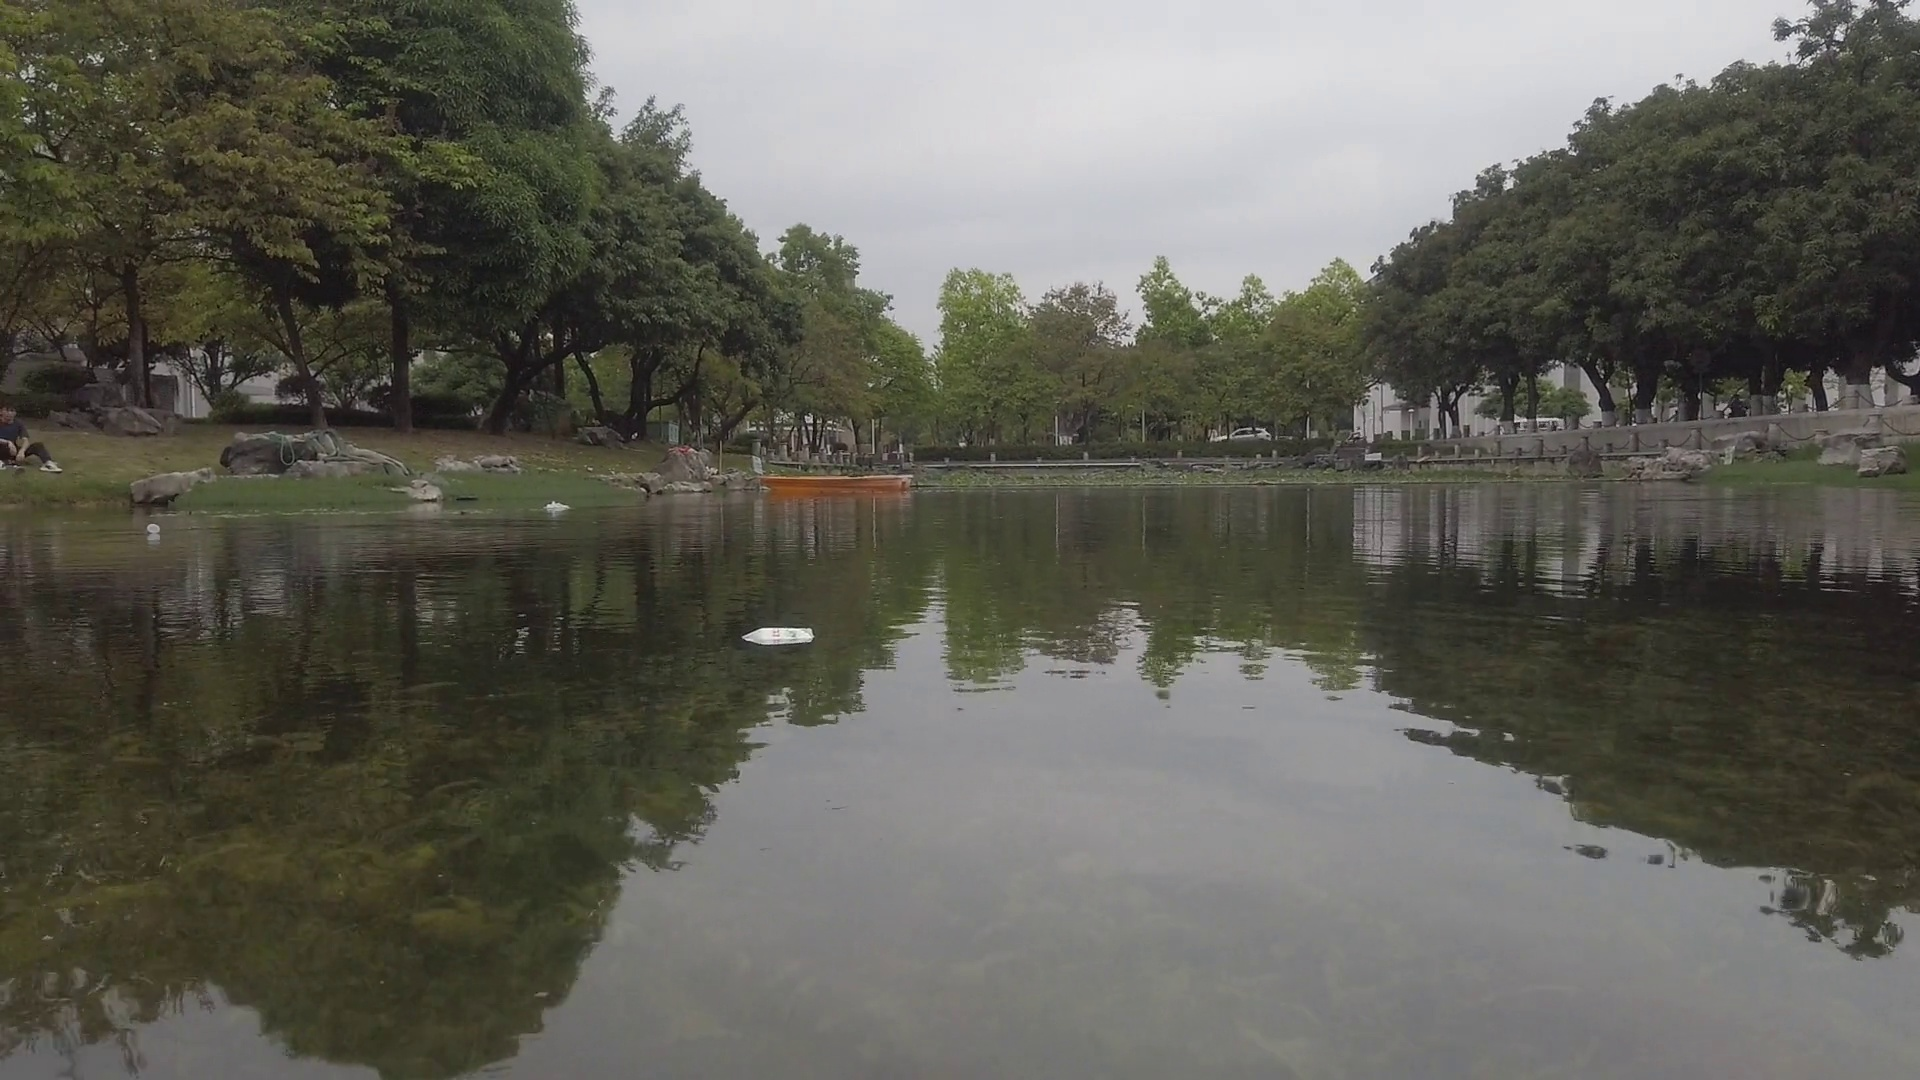bottle: (146, 524, 158, 535)
carton: (742, 624, 815, 645)
plastic: (543, 502, 570, 510)
